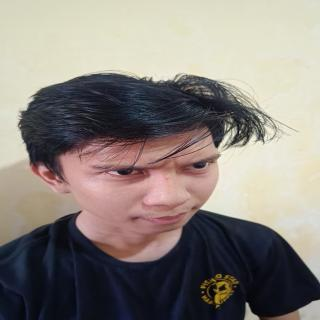Marah: (51, 125, 226, 237)
